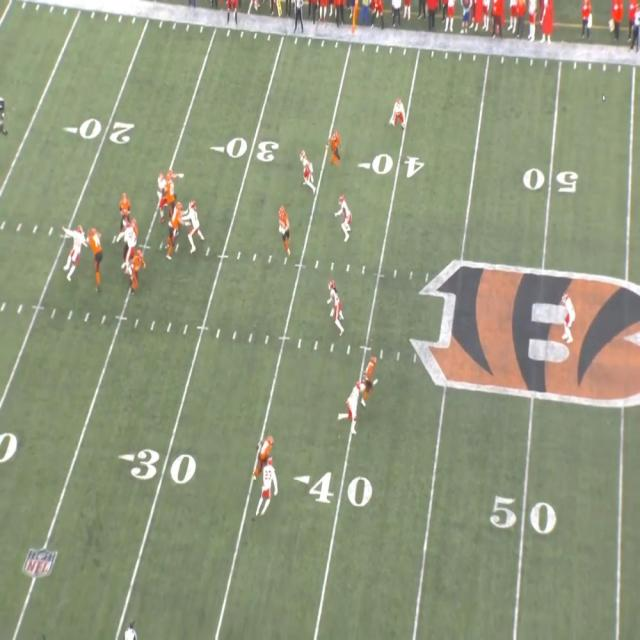db: (342, 382, 361, 433), (261, 454, 277, 509), (562, 292, 576, 346), (301, 153, 317, 187), (393, 100, 404, 127)
lb: (326, 278, 344, 334), (338, 194, 354, 238)
qb: (119, 195, 129, 225)
skill: (258, 434, 276, 492), (361, 354, 378, 395), (130, 250, 144, 296), (280, 205, 290, 259), (328, 130, 340, 164)
